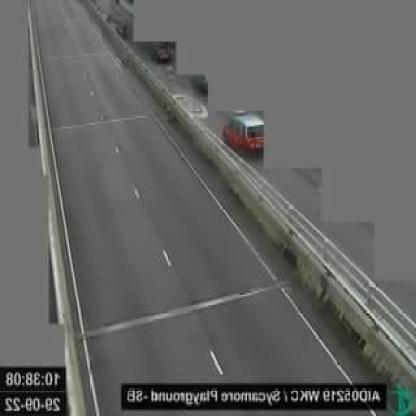Car: (219, 111, 266, 158)
